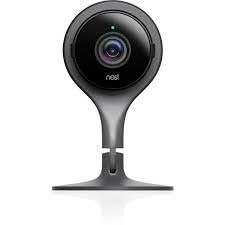maru: (53, 3, 177, 108)
